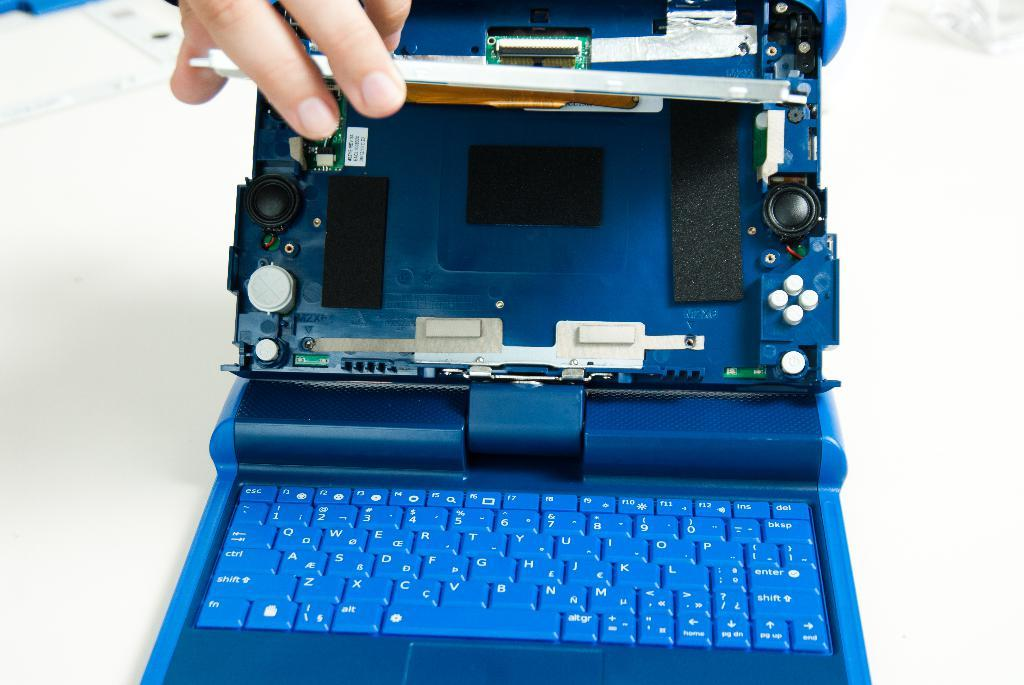Computer-keyboard: (191, 485, 830, 654)
